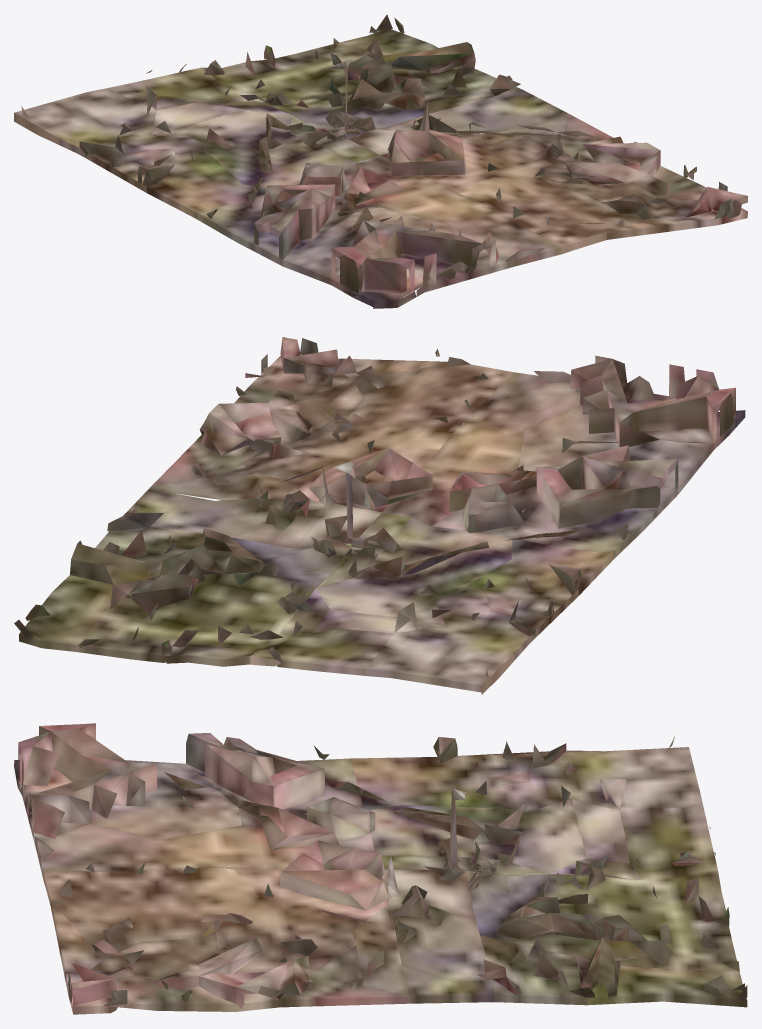
3 views of the same model, one above another, from view 1: azimuth 30°, elevation 25°; view 2: azimuth 150°, elevation 25°; view 3: azimuth 270°, elevation 25° (orthographic). The views are drawn at different scales.
Parts seen in each view (by area): view 1: Mesh_0; view 2: Mesh_0; view 3: Mesh_0.
Part boxes in pixels (box(x1,y1,x2,y2)): Mesh_0: box(14, 14, 747, 308); Mesh_0: box(14, 337, 745, 694); Mesh_0: box(14, 723, 747, 1014).
Size of the model in its own units: 532 by 126 by 660.
1 material, 1 textured.
